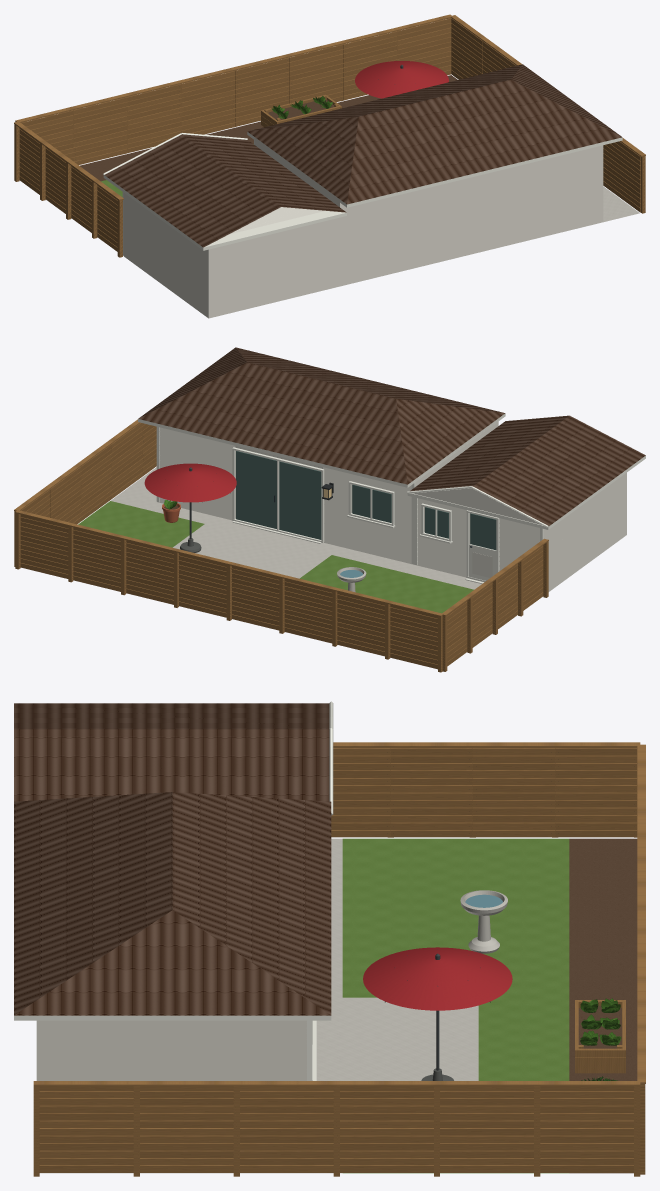
Rendered from demo-yard.glb.
3 renders of one model, top to bottom at view 1: azimuth 30°, elevation 25°; view 2: azimuth 150°, elevation 25°; view 3: azimuth 270°, elevation 25°, orthographic. The views are drawn at different scales.
Parts seen in each view (by area): view 1: house_exterior_roof_tiles, back_fence_cedar, house_exterior_lap_siding, garage_exterior_lap_siding, garage_exterior_roof_tiles, left_fence_cedar, right_fence_cedar, patio_umbrella_open_01_red_fabric, garage_exterior_white_trim, demo_planting_bed, house_exterior_white_trim, demo_walkway (+1 smaller); view 2: house_exterior_roof_tiles, back_fence_cedar, garage_exterior_roof_tiles, garage_exterior_lap_siding, house_exterior_lap_siding, demo_lawn, house_exterior_green_glass, right_fence_cedar, left_fence_cedar, house_exterior_white_trim, demo_walkway, demo_patio (+3 smaller); view 3: house_exterior_roof_tiles, right_fence_cedar, demo_lawn, garage_exterior_roof_tiles, left_fence_cedar, house_exterior_lap_siding, demo_planting_bed, demo_patio, patio_umbrella_open_01_red_fabric, demo_walkway, back_fence_cedar, house_exterior_white_trim (+4 smaller).
Part boxes in pixels (box(x1,y1,x2,y2)): house_exterior_roof_tiles: box(247, 64, 621, 204); back_fence_cedar: box(15, 14, 452, 164); house_exterior_lap_siding: box(254, 137, 603, 286); garage_exterior_lap_siding: box(123, 193, 339, 318); garage_exterior_roof_tiles: box(104, 134, 346, 247); left_fence_cedar: box(14, 121, 123, 257); right_fence_cedar: box(451, 15, 645, 213); patio_umbrella_open_01_red_fabric: box(355, 61, 448, 98); garage_exterior_white_trim: box(103, 133, 346, 255); demo_planting_bed: box(79, 75, 457, 181); house_exterior_white_trim: box(247, 132, 622, 207); demo_walkway: box(123, 186, 639, 255); house_exterior_roof_tiles: box(138, 347, 504, 484); back_fence_cedar: box(15, 510, 442, 672); garage_exterior_roof_tiles: box(410, 415, 645, 525); garage_exterior_lap_siding: box(413, 472, 626, 591); house_exterior_lap_siding: box(157, 418, 498, 564); demo_lawn: box(78, 501, 473, 613); house_exterior_green_glass: box(236, 451, 391, 539); right_fence_cedar: box(14, 419, 156, 566); left_fence_cedar: box(442, 538, 548, 671); house_exterior_white_trim: box(138, 413, 505, 564); demo_walkway: box(110, 467, 481, 589); demo_patio: box(173, 524, 331, 578); house_exterior_roof_tiles: box(14, 792, 331, 1015); right_fence_cedar: box(33, 1081, 640, 1176); demo_lawn: box(342, 838, 569, 1173); garage_exterior_roof_tiles: box(14, 703, 329, 801); left_fence_cedar: box(331, 742, 640, 837); house_exterior_lap_siding: box(36, 1020, 306, 1080); demo_planting_bed: box(569, 838, 637, 1173); demo_patio: box(342, 997, 478, 1080); patio_umbrella_open_01_red_fabric: box(363, 947, 512, 1010); demo_walkway: box(40, 838, 342, 1173); back_fence_cedar: box(637, 744, 645, 1174); house_exterior_white_trim: box(14, 1015, 331, 1080).
Bounding box in the file's own units: 14.54 × 3.82 × 11.16.
35 materials, 17 textured.
